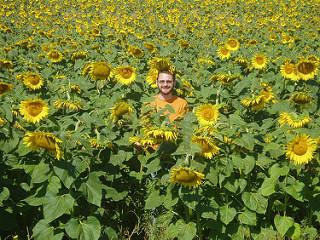sunflower: (24, 128, 61, 157), (284, 135, 314, 165), (168, 166, 205, 189), (18, 99, 50, 122), (83, 59, 112, 81), (197, 104, 219, 127), (114, 65, 137, 87), (294, 60, 320, 79), (23, 71, 43, 90), (280, 62, 296, 78), (214, 45, 232, 59), (251, 53, 266, 68), (223, 37, 240, 50), (47, 49, 63, 62)
